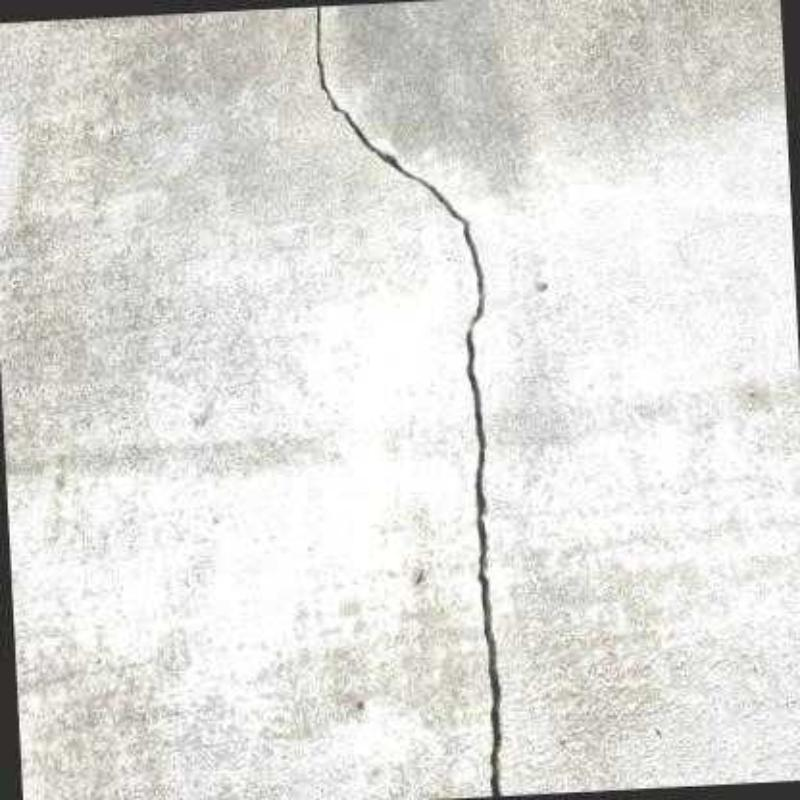pothole: (316, 7, 503, 798)
